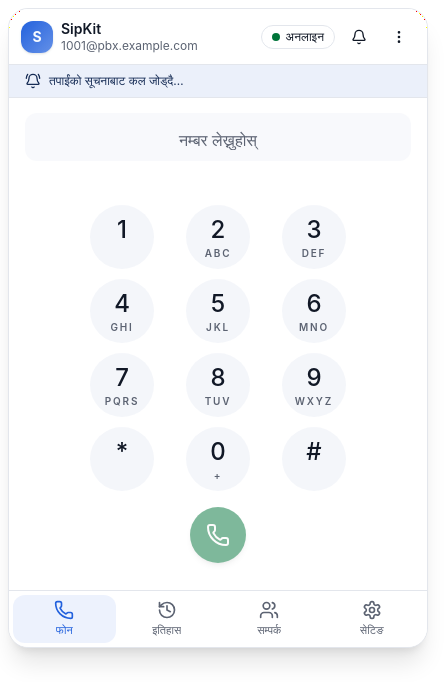
push UI › shows the blocked state and the pending banner (ne)
expect the message with test id "push-pending" shows "तपाईंको सूचनाबाट कल जोड्दै": met, box x1=49 y1=73 x2=184 y2=88
What coordinates should you click on to do the following:
click the tab "सेटिङ"
I would click on:
 (372, 619)
Its box is x1=320 y1=595 x2=423 y2=643.
(page scrolled)
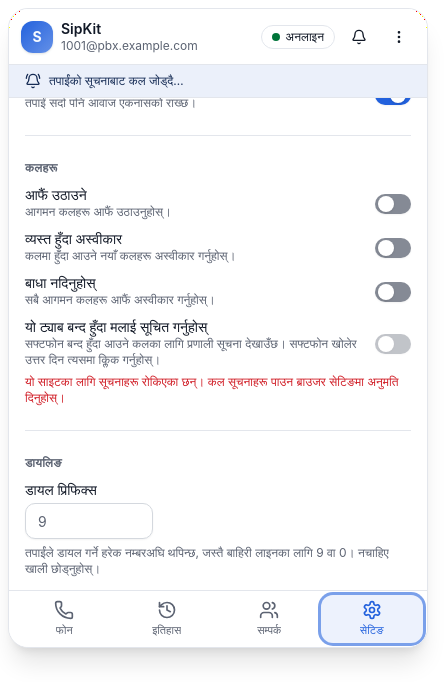
expect the message with test id "push-error" shows "सूचनाहरू रोकिएका छन्": met, box x1=25 y1=374 x2=398 y2=405
expect the switch with test id "push-toggle" is disabled: met, box x1=375 y1=334 x2=411 y2=354
